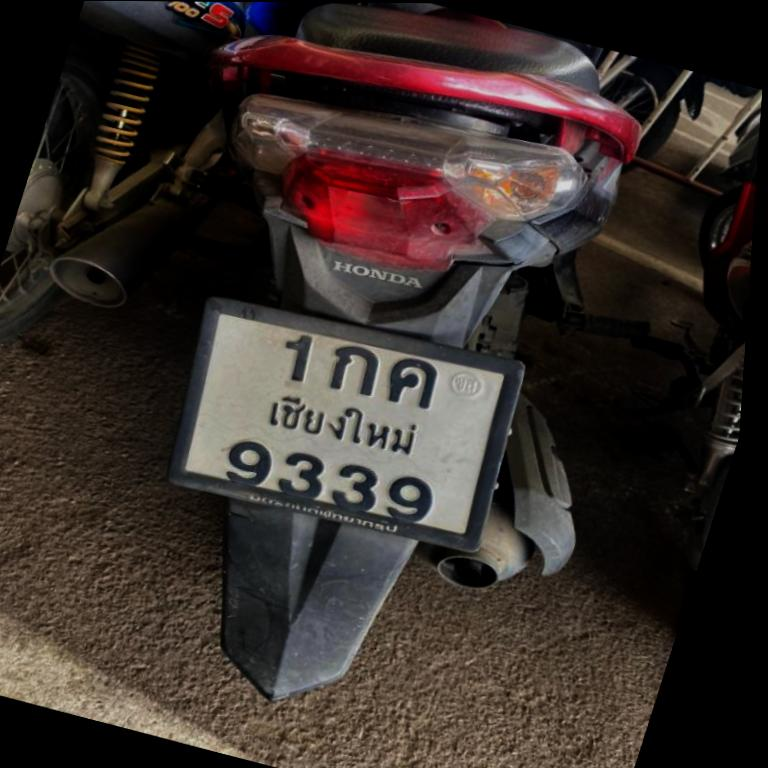license plate: (169, 299, 520, 548)
